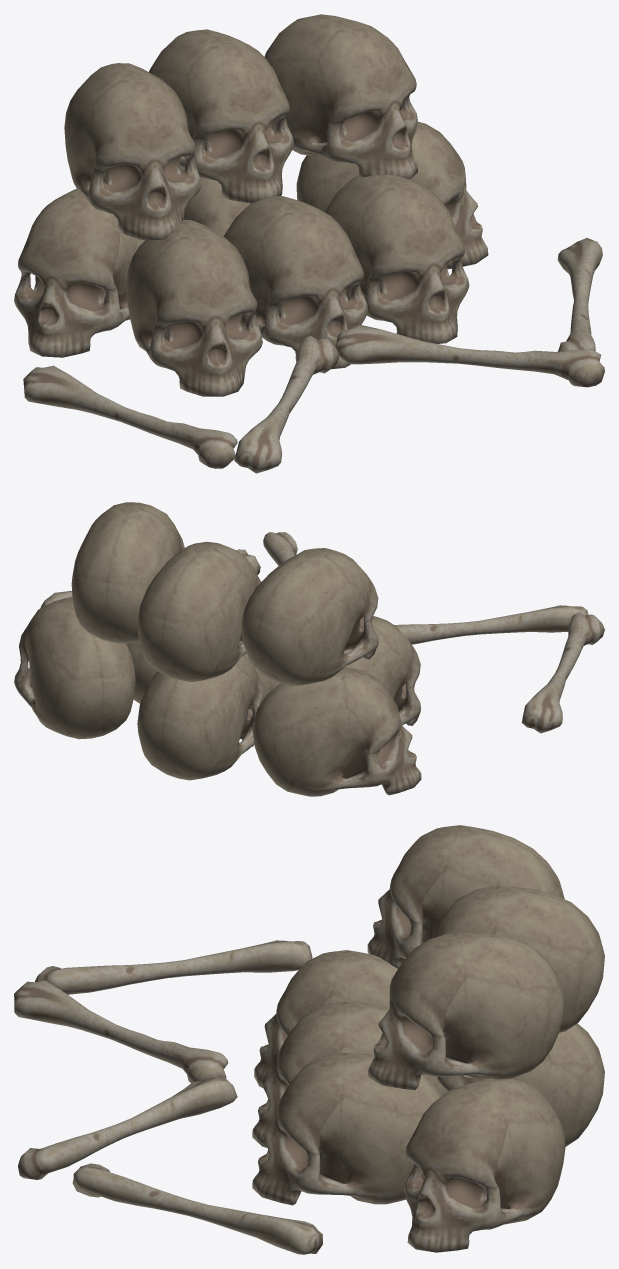
Rendered from skull and bones.fbx.
3 renders of one model, top to bottom at view 1: azimuth 30°, elevation 25°; view 2: azimuth 150°, elevation 25°; view 3: azimuth 270°, elevation 25°, orthographic. The views are drawn at different scales.
Visible parts, largest first — view 1: Shin2_low.002; view 2: Shin2_low.002; view 3: Shin2_low.002.
Boxes of the visible parts, x1=… form: Shin2_low.002: x1=14, y1=14, x2=604, y2=473; Shin2_low.002: x1=14, y1=502, x2=604, y2=796; Shin2_low.002: x1=14, y1=825, x2=604, y2=1254.
Size of the model in its own units: 71.49 by 29.39 by 60.3.
